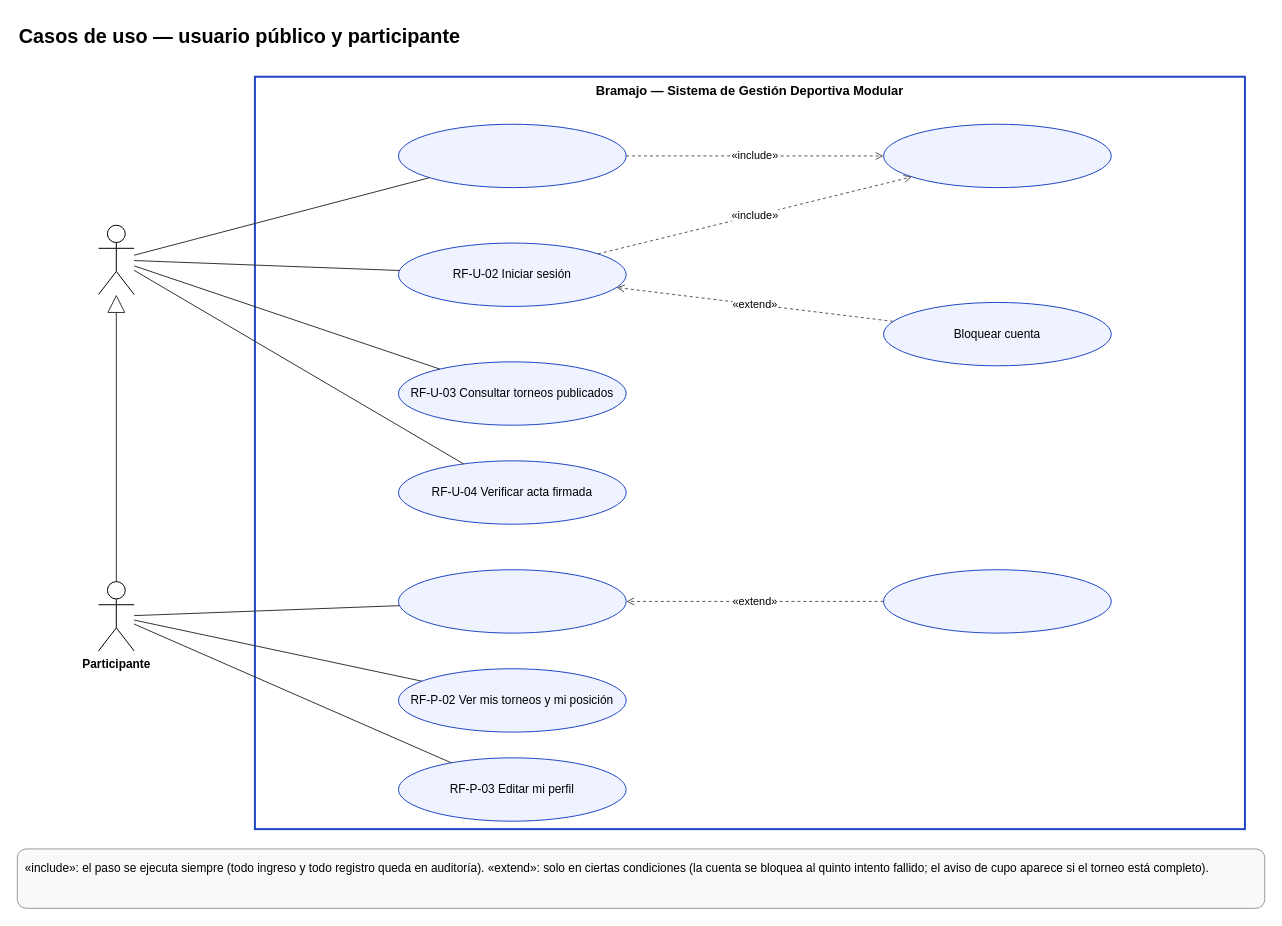
The diagram is 1282 pixels wide and 926 high, and some of its shapes have lost their labels. The centre of each missing label's shape, as x and y in pixels:
"Avisar cupo completo" goes at (997,601).
"Registrar en auditoría" goes at (997,155).
"RF-P-01 Solicitar inscripción" goes at (511,601).
"RF-U-01 Registrarse" goes at (511,155).
"Usuario público" goes at (116,259).
